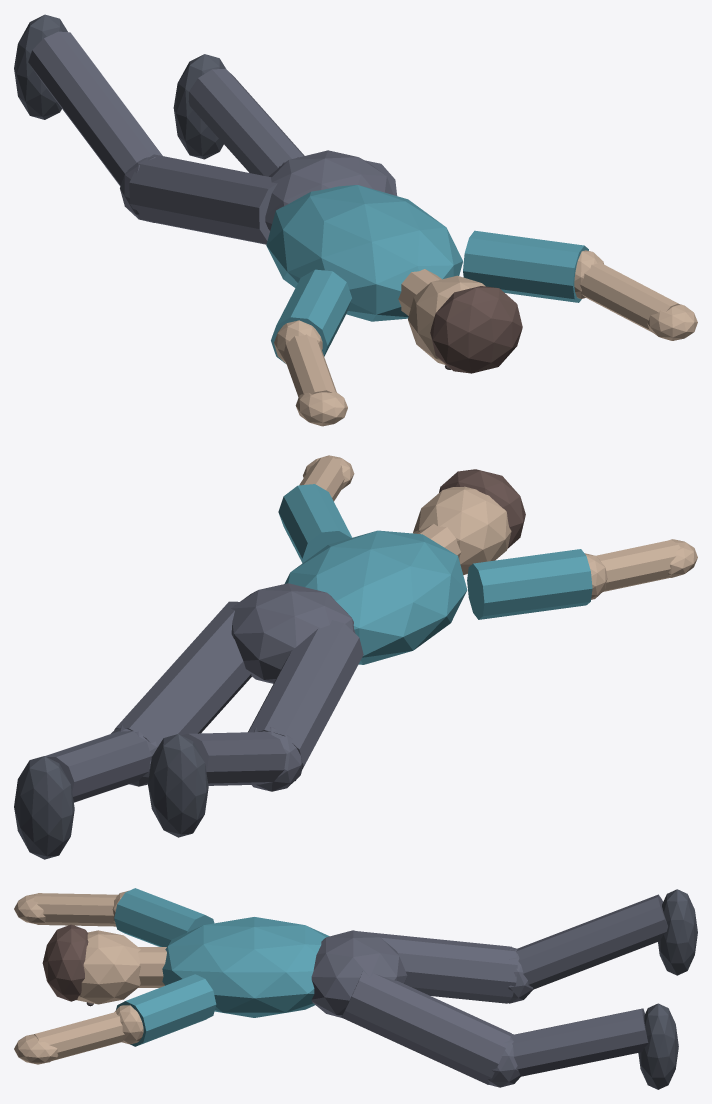
3 renders of one model, top to bottom at view 1: azimuth 30°, elevation 25°; view 2: azimuth 150°, elevation 25°; view 3: azimuth 270°, elevation 25°, orthographic. The views are drawn at different scales.
Visible parts, largest first — view 1: world; view 2: world; view 3: world.
Boxes of the visible parts, x1,y1,x2,y2 form: world: [14, 14, 697, 426]; world: [14, 455, 697, 859]; world: [14, 888, 697, 1089].
Size of the model in its own units: 1.17 by 0.4905 by 2.15.
